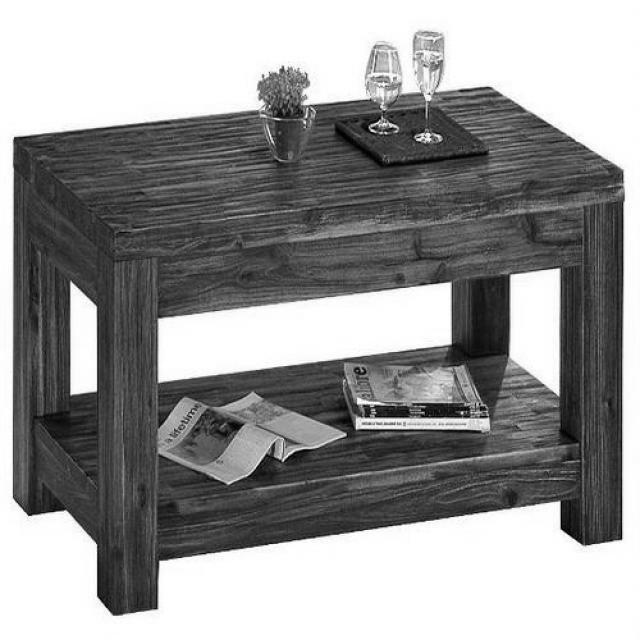table: (11, 84, 626, 612)
